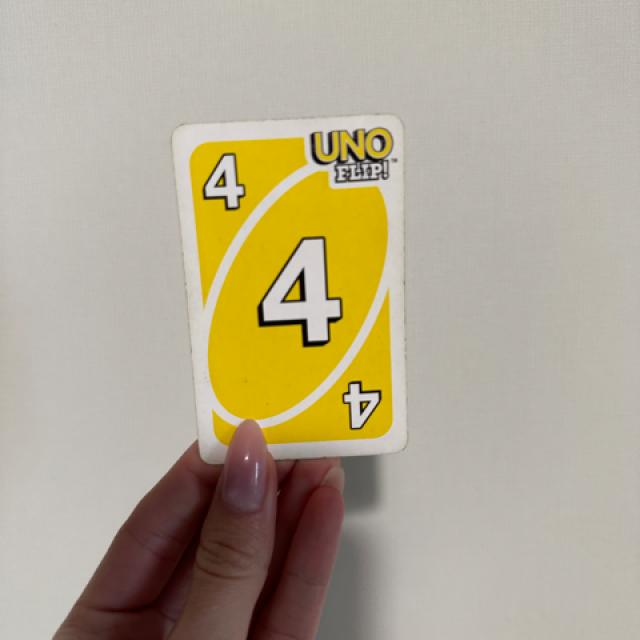lyellow-4: (187, 131, 264, 228)
